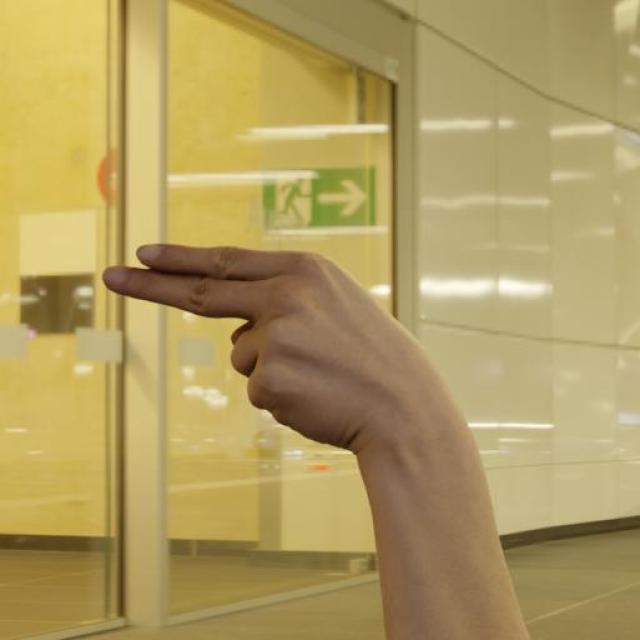H: (101, 245, 442, 459)
